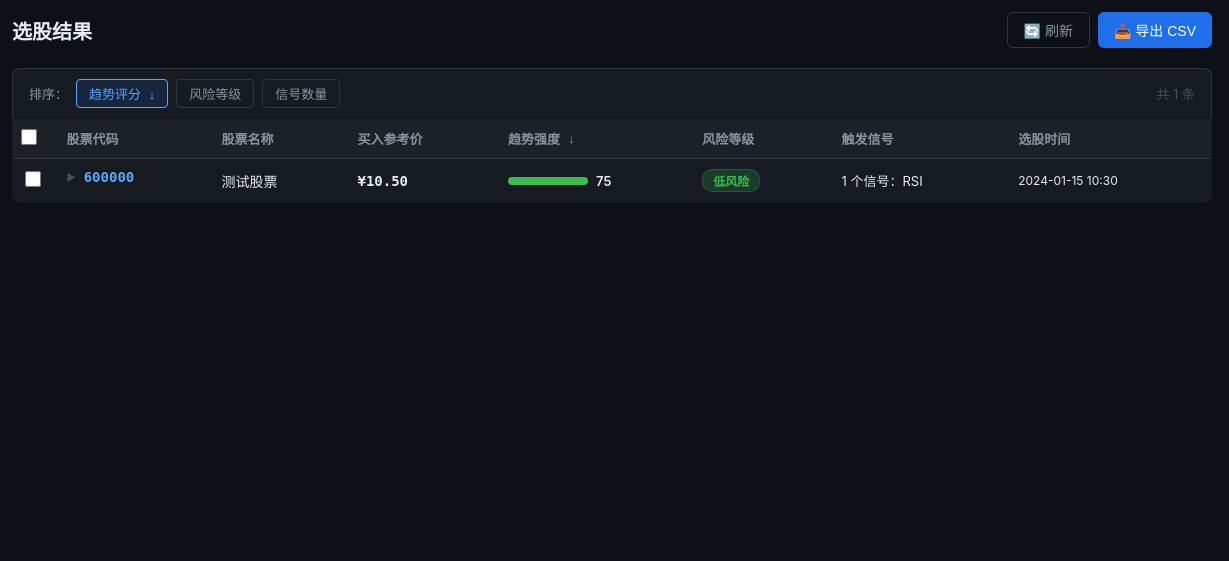
Test: ScreenerResultsView - 信号标签增强 › 描述文本显示与回退逻辑 › 信号无 description 字段时，标签回退显示 label
Click the row with class "result-row" at (612, 180), box [12,158,1212,202]
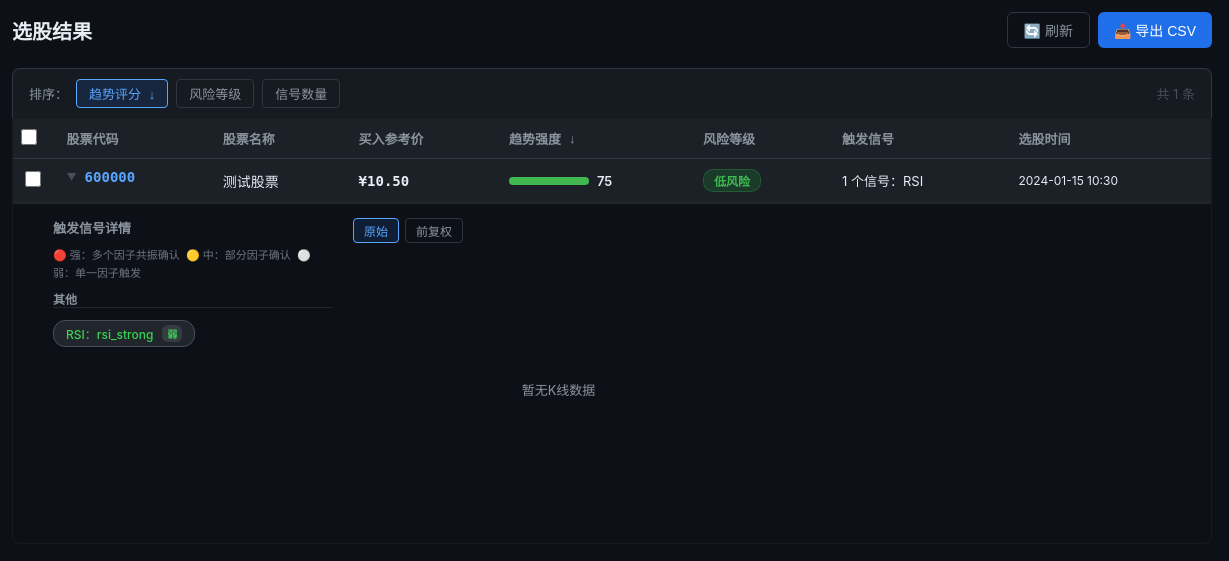
Expected: the element with class "signal-tag" is shown, [53,320,195,347]
Expected: the element with class "signal-tag" shows "RSI", [66,327,153,342]
Expected: the element with class "signal-tag" shows "rsi_strong", [66,327,153,342]
